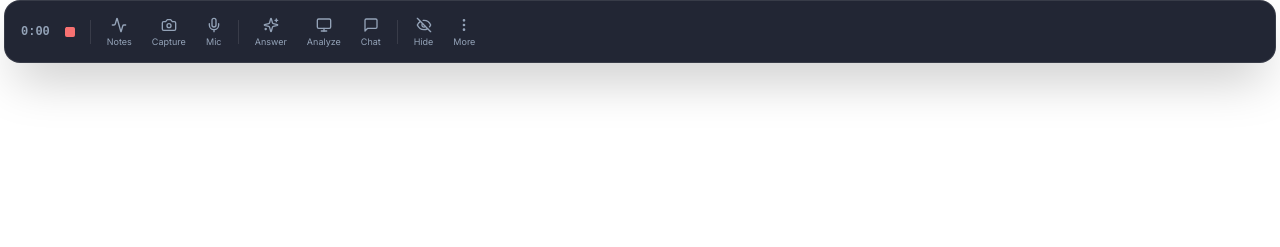
Test: SessionScreen › opens transcription panel when Equalizer is clicked
Click the button with aria-label "transcription": (119, 32) [99, 9, 140, 54]
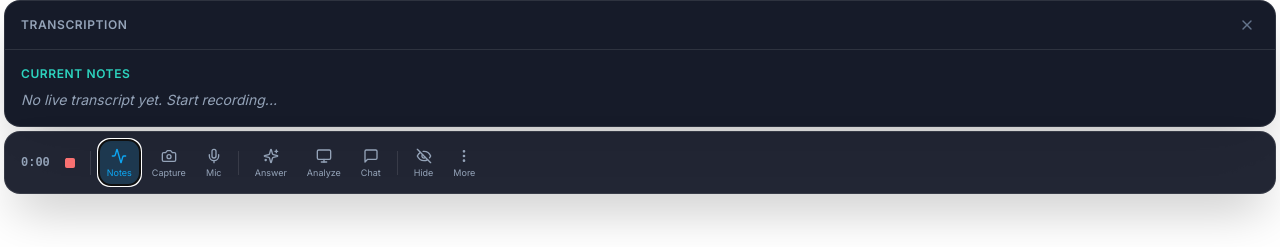
Check: the element named "ai panel" is shown, box [4, 0, 1276, 127]
Check: the text "No live transcript yet. Start recording..." is shown, box [21, 91, 277, 108]
